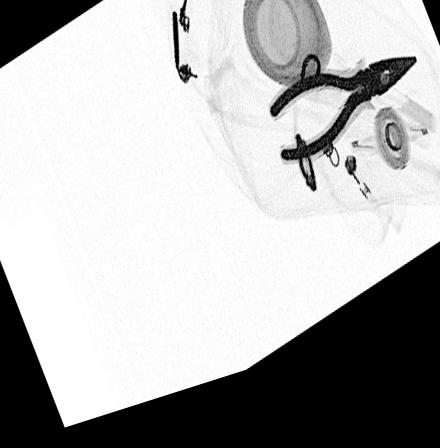Pliers: (264, 77, 419, 181)
